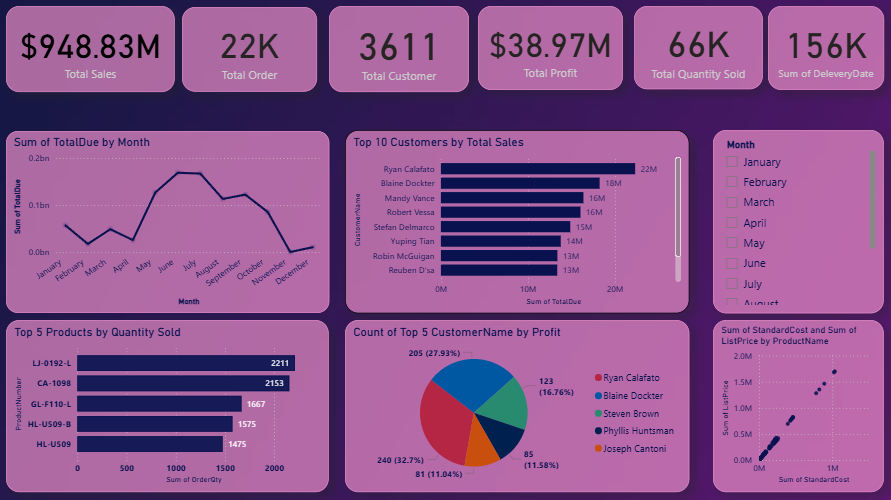

What the dashboard file says about the page in this screenshot:
{"tool":"powerbi","page":{"name":"Page 1","canvas":[1280,720],"ordinal":0},"visuals":[{"type":"card","fields":{"Values":["Sales_clean.Total Sales"]},"box":[10,11.4,241.4,122.9],"z":0},{"type":"card","fields":{"Values":["Sales_clean.Total Order"]},"box":[261.4,12.9,192.9,121.4],"z":1000},{"type":"card","fields":{"Values":["Sales_clean.Total Customer"]},"box":[471.4,11.4,200,122.9],"z":2000},{"type":"card","fields":{"Values":["Sales_clean.Total Quantity Sold"]},"box":[907.1,11.4,184.3,118.6],"z":3000},{"type":"card","fields":{"Values":["Sales_clean.Total Profit"]},"box":[684.3,11.4,207.1,120],"z":4000},{"type":"lineChart","fields":{"Category":["Sales_clean.OrderDate.Variation.Date Hierarchy.Month"],"Y":["Sales_clean.TotalDue"]},"box":[10,190,462,260],"z":5000},{"type":"barChart","title":"Top 10 Customers by Total Sales","fields":{"Category":["Sales_clean.CustomerName"],"Y":["Sales_clean.TotalDue"]},"box":[494,188,492,262],"z":6000},{"type":"slicer","fields":{"Values":["Sales_clean.OrderDate.Variation.Date Hierarchy.Month"]},"box":[1020,188,244,262],"z":7000},{"type":"barChart","title":"Top 5 Products by Quantity Sold","fields":{"Category":["Sales_clean.ProductNumber"],"Y":["Sales_clean.OrderQty"]},"box":[10,460,461.4,245.7],"z":7001},{"type":"pieChart","title":"Count of  Top 5 CustomerName by Profit","fields":{"Category":["Sales_clean.CustomerName"],"Y":["Sales_clean.CustomerName"]},"box":[494,460,492,246],"z":7002},{"type":"scatterChart","fields":{"Y":["Sales_clean.ListPrice"],"X":["Sales_clean.StandardCost"],"Category":["Sales_clean.ProductName"]},"box":[1020,460,244,246],"z":7003},{"type":"card","fields":{"Values":["Sales_clean.DeleveryDate"]},"box":[1098.6,11.4,165.7,120],"z":7004}]}

Visuals, with their boxes in screenshot pixels (x1, y1, x2, y2), scaled from the page's 1280x720 canvas onto the 891x500 screenshot:
card - Sales_clean.Total Sales: x1=7, y1=8, x2=175, y2=93
card - Sales_clean.Total Order: x1=182, y1=9, x2=316, y2=93
card - Sales_clean.Total Customer: x1=328, y1=8, x2=467, y2=93
card - Sales_clean.Total Quantity Sold: x1=631, y1=8, x2=760, y2=90
card - Sales_clean.Total Profit: x1=476, y1=8, x2=620, y2=91
lineChart - Sales_clean.OrderDate.Variation.Date Hierarchy.Month x Sales_clean.TotalDue: x1=7, y1=132, x2=329, y2=312
"Top 10 Customers by Total Sales" barChart: x1=344, y1=131, x2=686, y2=312
slicer - Sales_clean.OrderDate.Variation.Date Hierarchy.Month: x1=710, y1=131, x2=880, y2=312
"Top 5 Products by Quantity Sold" barChart: x1=7, y1=319, x2=328, y2=490
"Count of  Top 5 CustomerName by Profit" pieChart: x1=344, y1=319, x2=686, y2=490
scatterChart - Sales_clean.ListPrice x Sales_clean.StandardCost: x1=710, y1=319, x2=880, y2=490
card - Sales_clean.DeleveryDate: x1=765, y1=8, x2=880, y2=91
